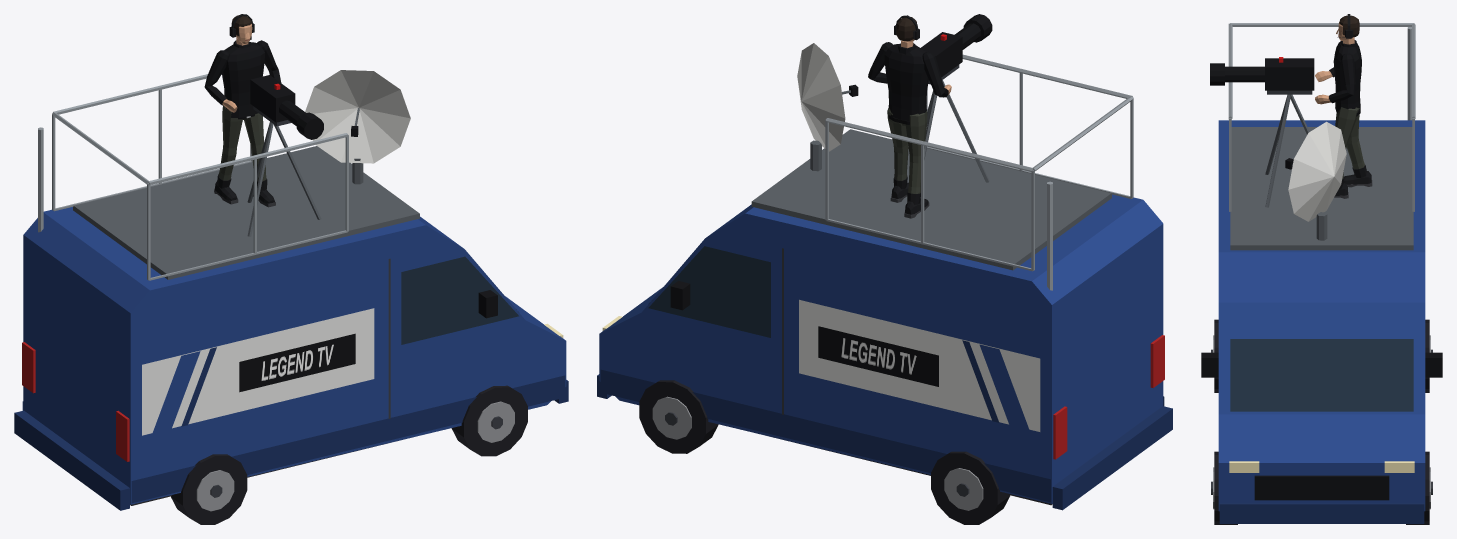
The model's file is tv_van.glb.
3 renders of one model, left to right at view 1: azimuth 30°, elevation 25°; view 2: azimuth 150°, elevation 25°; view 3: azimuth 270°, elevation 25°, orthographic. The views are drawn at different scales.
Parts seen in each view (by area): view 1: Body, Track, Dish, RoofCrew; view 2: Body, Track, RoofCrew, Dish; view 3: Body, Track, Dish, RoofCrew.
Boxes of the visible parts, x1=… form: Body: x1=14, y1=127, x2=568, y2=524; Track: x1=204, y1=14, x2=323, y2=207; Dish: x1=305, y1=70, x2=410, y2=184; RoofCrew: x1=52, y1=74, x2=348, y2=280; Body: x1=597, y1=129, x2=1172, y2=524; Track: x1=868, y1=14, x2=992, y2=218; RoofCrew: x1=825, y1=54, x2=1133, y2=271; Dish: x1=797, y1=43, x2=858, y2=171; Body: x1=1201, y1=27, x2=1442, y2=524; Track: x1=1210, y1=14, x2=1372, y2=198; Dish: x1=1285, y1=121, x2=1346, y2=240; RoofCrew: x1=1228, y1=23, x2=1415, y2=211.
Bounding box in the file's own units: 4.63 × 4.3 × 2.24.
Materials: 25 (1 with a texture image).
